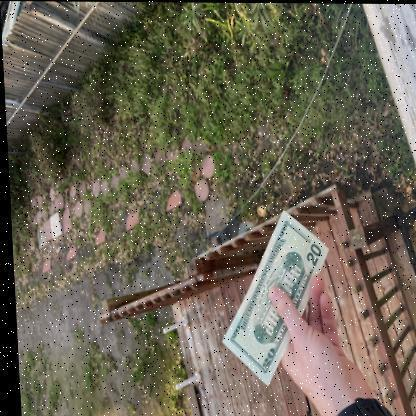dollar_back: (218, 208, 327, 385)
